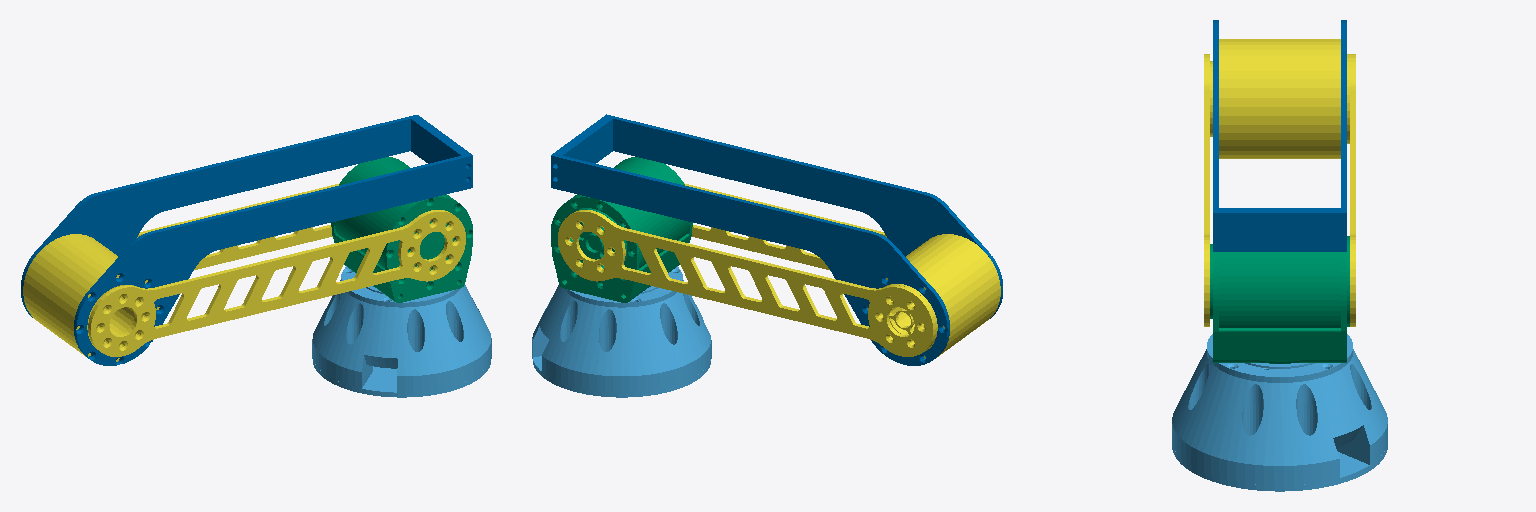
The robot description file, URDF, robot "swing_boy":
<?xml version="1.0" ?>
<!-- =================================================================================== -->
<!-- |    This document was autogenerated by xacro from swing_boy.urdf.xacro           | -->
<!-- |    EDITING THIS FILE BY HAND IS NOT RECOMMENDED                                 | -->
<!-- =================================================================================== -->
<robot name="swing_boy">
  <gazebo>
    <plugin filename="libarm_robot_hw_sim.so" name="arm_ros_control">
      <robotNamespace>/</robotNamespace>
      <robotSimType>arm_gazebo/ArmRobotHWSim</robotSimType>
    </plugin>
  </gazebo>
  <link name="world"/>
  <link name="base_link">
    <visual>
      <origin rpy="0 0 0" xyz="0 0 0"/>
      <geometry>
        <mesh filename="package://swing_boy/meshes/base.stl" scale="0.001 0.001 0.001"/>
      </geometry>
    </visual>
    <collision>
      <origin rpy="0 0 0" xyz="0. 0. 0."/>
      <geometry>
        <mesh filename="package://swing_boy/meshes/base.stl" scale="0.001 0.001 0.001"/>
      </geometry>
    </collision>
    <inertial>
      <mass value="0.476537"/>
      <origin xyz="-0.000051 -0.000125 -0.030648"/>
      <inertia ixx="3.101e-4" ixy="9.215839e-6" ixz="5.46844e-8" iyy="3.100e-4" iyz="-1.59465e-7" izz="4.105e-4"/>
    </inertial>
  </link>
  <joint name="fixed_base" type="fixed">
    <parent link="world"/>
    <child link="base_link"/>
    <origin rpy="0 0 0" xyz="0 0 0"/>
  </joint>
  <link name="link1">
    <visual>
      <origin rpy="0 0 0" xyz="0 0 0.032"/>
      <geometry>
        <mesh filename="package://swing_boy/meshes/link1.stl" scale="0.001 0.001 0.001"/>
      </geometry>
    </visual>
    <collision>
      <origin rpy="0 0 0" xyz="0. 0. 0."/>
      <geometry>
        <mesh filename="package://swing_boy/meshes/link1.stl" scale="0.001 0.001 0.001"/>
      </geometry>
    </collision>
    <inertial>
      <mass value="0.499496"/>
      <origin xyz="-0.000017 -0.005388 0.030434"/>
      <inertia ixx="3.043e-4" ixy="7.99033e-7" ixz="1.09468e-7" iyy="2.716e-4" iyz="4.675523e-6" izz="2.922e-4"/>
    </inertial>
  </link>
  <link name="link2">
    <visual>
      <origin rpy="0 0 0" xyz="-0.2 0 0"/>
      <geometry>
        <mesh filename="package://swing_boy/meshes/link2.stl" scale="0.001 0.001 0.001"/>
      </geometry>
    </visual>
    <collision>
      <origin rpy="0 0 0" xyz="-0.2 0. 0."/>
      <geometry>
        <mesh filename="package://swing_boy/meshes/link2.stl" scale="0.001 0.001 0.001"/>
      </geometry>
    </collision>
    <inertial>
      <mass value="0.505361"/>
      <origin xyz="-0.191239 -0.005296 0.000049"/>
      <inertia ixx="3.194e-4" ixy="-2.320655e-5" ixz="1.5031e-7" iyy="8.869e-4" iyz="3.28381e-7" izz="9.599e-4"/>
    </inertial>
  </link>
  <link name="link3">
    <visual>
      <origin rpy="0 0 0" xyz="0 0 0"/>
      <geometry>
        <mesh filename="package://swing_boy/meshes/link3.stl" scale="0.001 0.001 0.001"/>
      </geometry>
    </visual>
    <collision>
      <origin rpy="0 0 0" xyz="0. 0. 0."/>
      <geometry>
        <mesh filename="package://swing_boy/meshes/link3.stl" scale="0.001 0.001 0.001"/>
      </geometry>
    </collision>
    <inertial>
      <mass value="0.108973"/>
      <origin xyz="0.101968 -0.000085 0.03048"/>
      <inertia ixx="6.4054865e-5" ixy="-5.11151e-7" ixz="-4.1292165e-5" iyy="3.979e-4" iyz="-1.53213e-7" izz="4.306e-4"/>
    </inertial>
  </link>
  <joint name="joint1" type="revolute">
    <parent link="base_link"/>
    <child link="link1"/>
    <origin rpy="0 0 0" xyz="0 0 0."/>
    <axis xyz="0 0 1"/>
    <limit effort="8" lower="-3.14" upper="3.14" velocity="5"/>
  </joint>
  <joint name="joint2" type="revolute">
    <parent link="link1"/>
    <child link="link2"/>
    <origin rpy="0 0 0" xyz="0. 0. 0.032"/>
    <axis xyz="0 1 0"/>
    <limit effort="8" lower="-3.14" upper="3.14" velocity="5"/>
  </joint>
  <joint name="joint3" type="revolute">
    <parent link="link2"/>
    <child link="link3"/>
    <origin rpy="0 0 0" xyz="-0.2 0 0"/>
    <axis xyz="0 1 0"/>
    <limit effort="8" lower="-3.14" upper="3.14" velocity="5"/>
  </joint>
  <transmission name="trans_joint1">
    <type>transmission_interface/SimpleTransmission</type>
    <actuator name="joint1_motor">
      <mechanicalReduction>1</mechanicalReduction>
    </actuator>
    <joint name="joint1">
      <hardwareInterface>hardware_interface/EffortJointInterface</hardwareInterface>
    </joint>
  </transmission>
  <transmission name="trans_joint2">
    <type>transmission_interface/SimpleTransmission</type>
    <actuator name="joint2_motor">
      <mechanicalReduction>1</mechanicalReduction>
    </actuator>
    <joint name="joint2">
      <hardwareInterface>hardware_interface/EffortJointInterface</hardwareInterface>
    </joint>
  </transmission>
  <transmission name="trans_joint3">
    <type>transmission_interface/SimpleTransmission</type>
    <actuator name="joint3_motor">
      <mechanicalReduction>-1</mechanicalReduction>
    </actuator>
    <joint name="joint3">
      <hardwareInterface>hardware_interface/EffortJointInterface</hardwareInterface>
    </joint>
  </transmission>
  <link name="EE"/>
  <joint name="EE_fixed" type="fixed">
      <parent link="link3"/>
      <child link="EE"/>
      <origin xyz="0.2 0 0.035" rpy="0 0 0"/>
  </joint>
</robot>

--- Render facts (derived) ---
Views: 3 orthographic renders of the robot side by side, from view 1: azimuth 30°, elevation 25°; view 2: azimuth 150°, elevation 25°; view 3: azimuth 270°, elevation 25°.
Robot: swing_boy — 6 links, 5 joints (3 revolute, 2 fixed); root link world; default pose: all joints at 0.
Visible links, largest first — view 1: link3, link2, base_link, link1; view 2: link3, link2, base_link, link1; view 3: base_link, link2, link1, link3.
Link boxes in pixels (x1,y1,x2,y2): link3: (21, 115, 472, 365); link2: (23, 183, 465, 361); base_link: (312, 266, 491, 397); link1: (331, 157, 472, 302); link3: (551, 114, 1002, 365); link2: (558, 183, 1000, 358); base_link: (532, 266, 711, 397); link1: (551, 157, 692, 302); base_link: (1172, 334, 1387, 491); link2: (1204, 39, 1355, 326); link1: (1210, 236, 1349, 363); link3: (1213, 20, 1346, 251).
Size in the robot's own frame: 0.278 by 0.1 by 0.132 metres.
Meshes: 4 distinct files referenced, 4 mesh visuals loaded (4 binary STL).
